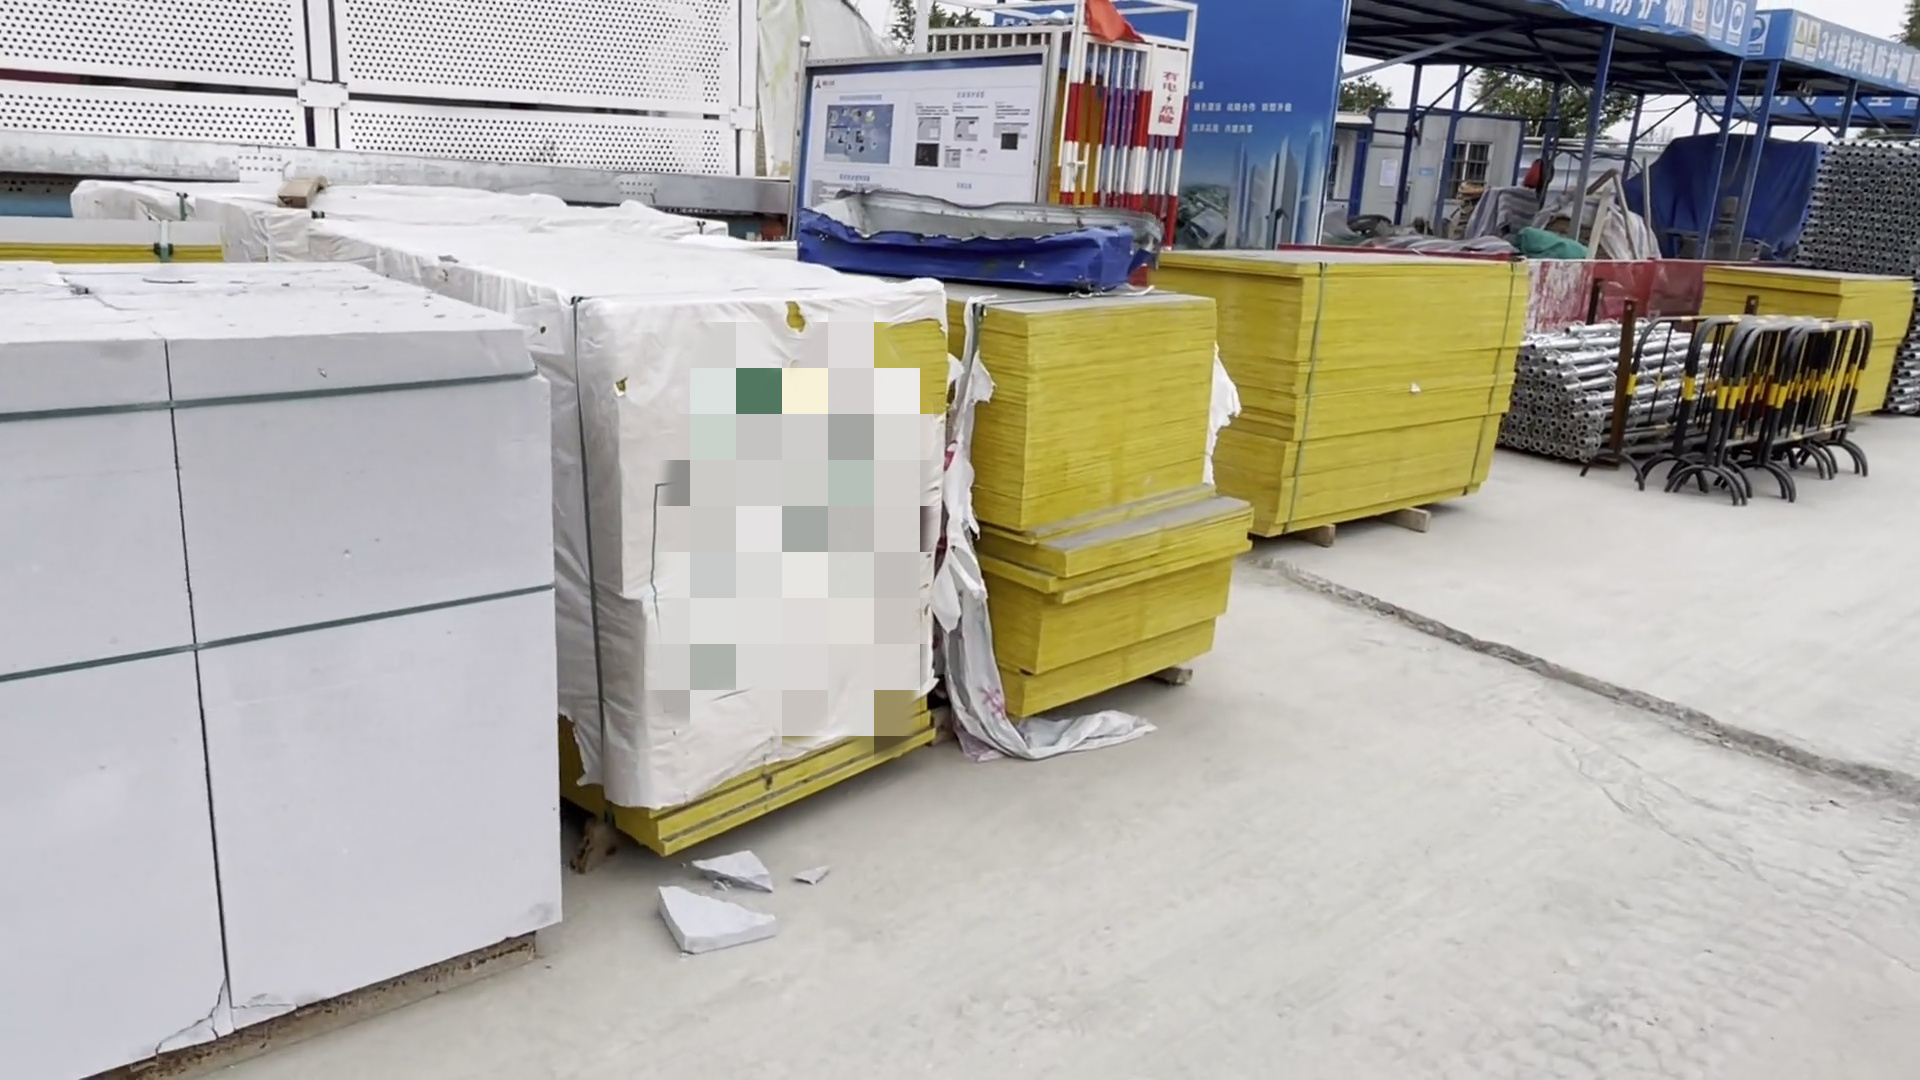board: (969, 287, 1262, 753), (1195, 253, 1543, 553)
brick: (4, 280, 607, 1080)
slogan: (1768, 16, 1912, 102)
